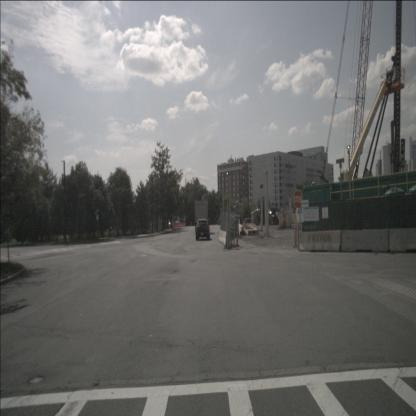barrier: (341, 230, 389, 252), (299, 230, 342, 252), (389, 228, 416, 251)
cone: (292, 222, 298, 248)
